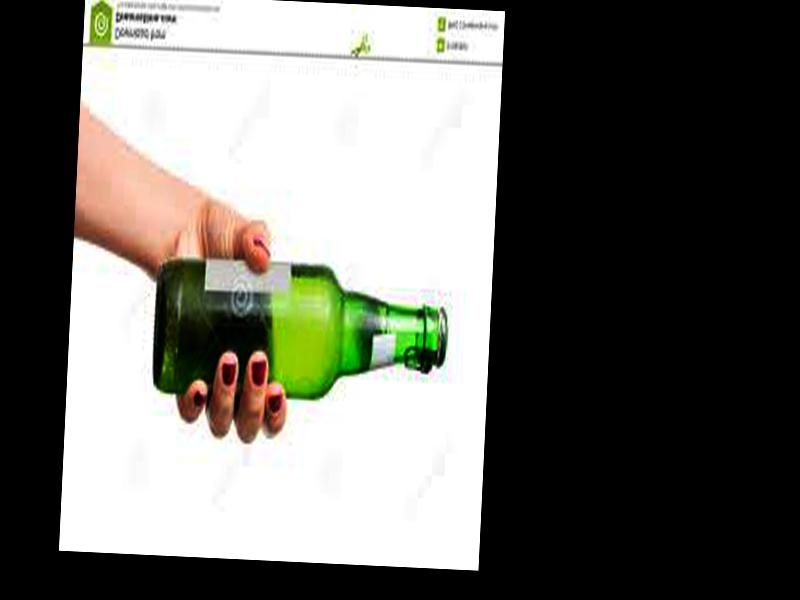Beer: (151, 252, 452, 406)
